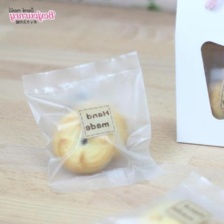snack: (15, 46, 170, 197)
